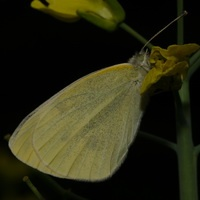insect: (9, 44, 199, 180)
